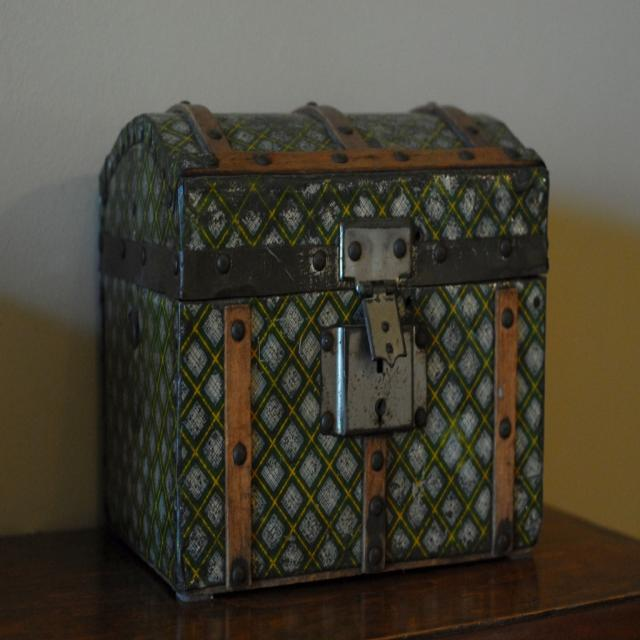Box: (98, 100, 550, 602)
